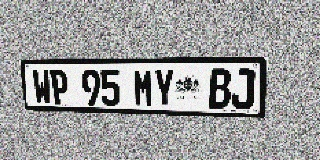5: (100, 69, 121, 106)
9: (81, 69, 102, 106)
B: (209, 69, 231, 109)
J: (231, 69, 255, 109)
M: (133, 69, 154, 107)
P: (49, 69, 70, 105)
W: (32, 69, 52, 104)
Y: (154, 69, 174, 107)
